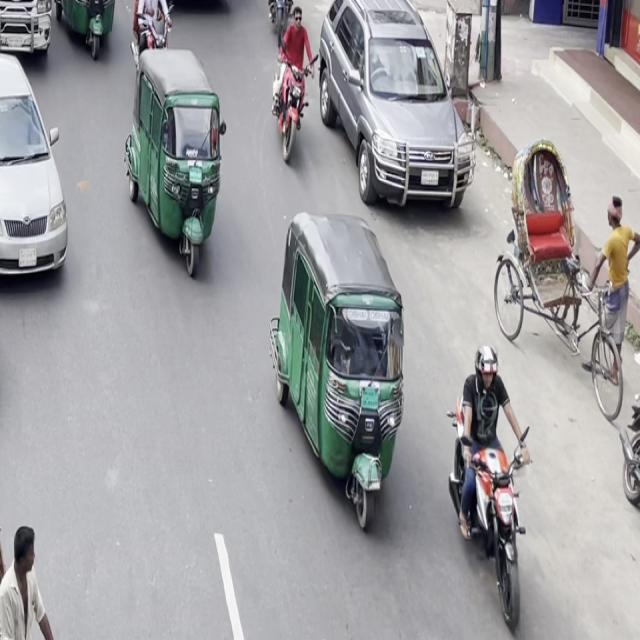bus: (115, 0, 245, 9)
car: (312, 0, 481, 225), (0, 34, 79, 294), (0, 0, 62, 71), (0, 82, 9, 418)
motorbike: (432, 321, 547, 619), (266, 2, 317, 176), (128, 0, 177, 74), (259, 0, 306, 45)
rickshaw: (260, 200, 427, 528), (121, 35, 237, 286), (0, 427, 39, 633), (54, 0, 125, 66)
